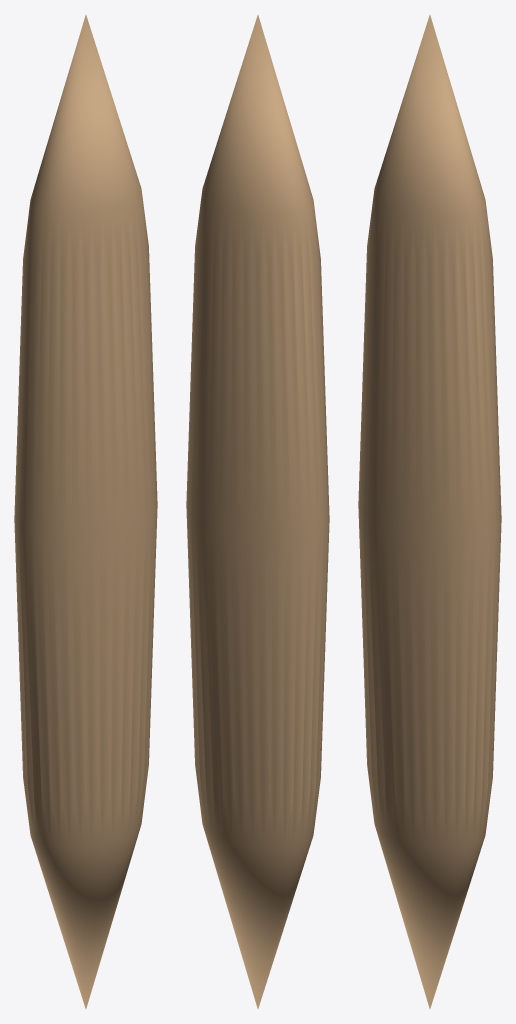
The model's file is cucharilla_a.glb.
The picture shows the model from 3 angles, left to right: view 1: azimuth 30°, elevation 25°; view 2: azimuth 150°, elevation 25°; view 3: azimuth 330°, elevation 25°; orthographic projection.
Parts seen in each view (by area): view 1: Cylinder; view 2: Cylinder; view 3: Cylinder.
Part boxes in pixels (left/top/right/bottom): Cylinder: left=14, top=15, right=157, bottom=1008; Cylinder: left=186, top=15, right=329, bottom=1008; Cylinder: left=358, top=15, right=501, bottom=1008.
Size of the model in its own units: 0.0207 by 0.1489 by 0.0149.
